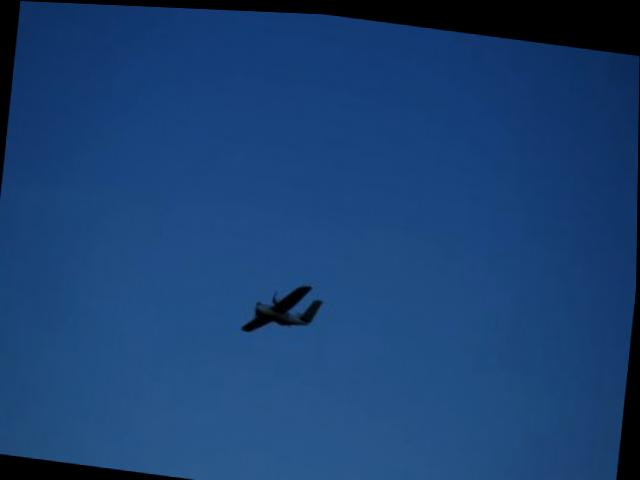uav: (228, 262, 336, 354)
